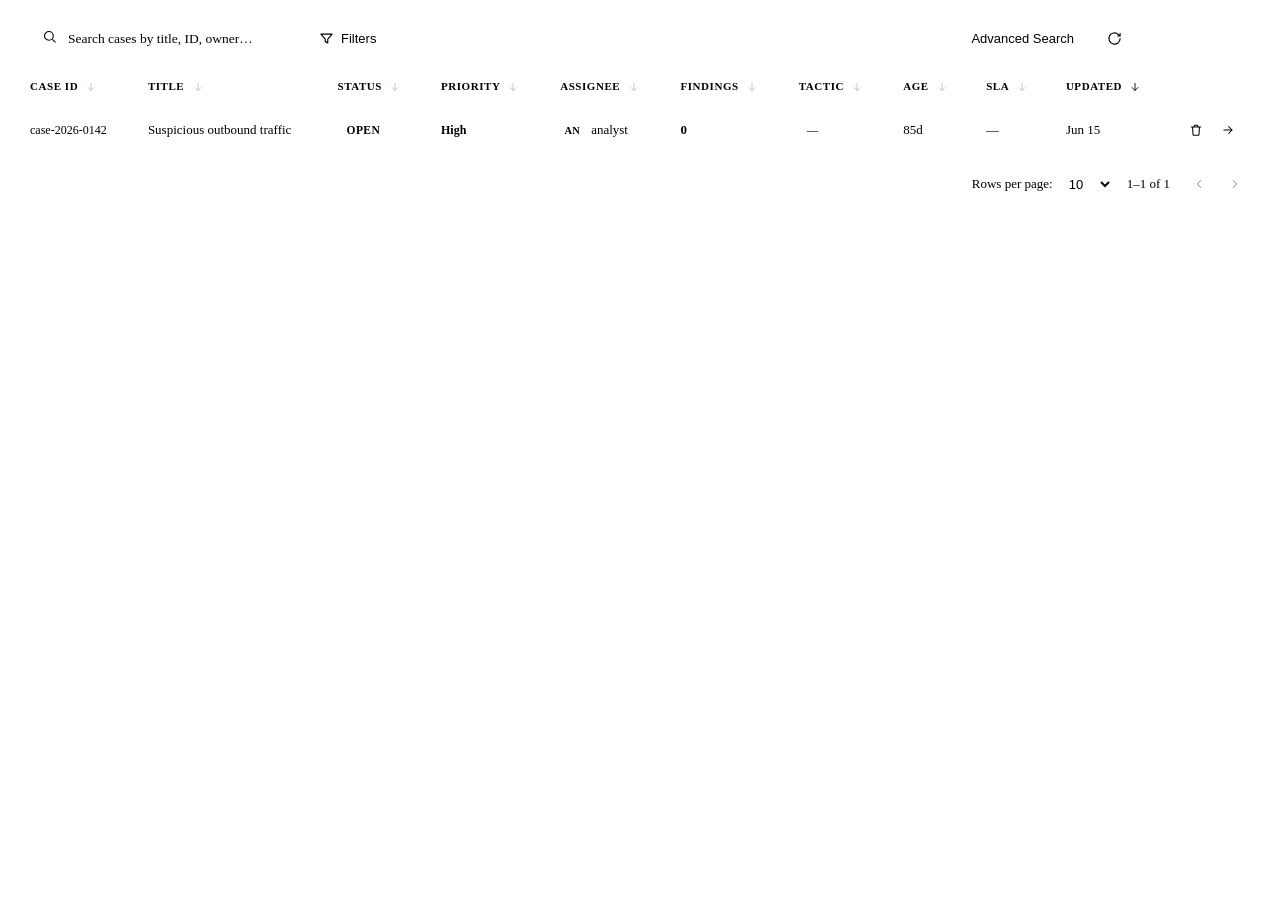
Test: case deletion › deletes a case and refreshes the list
Click the button named "Delete case case-2026-0142".
click(1196, 130)  # box [1182, 116, 1210, 144]
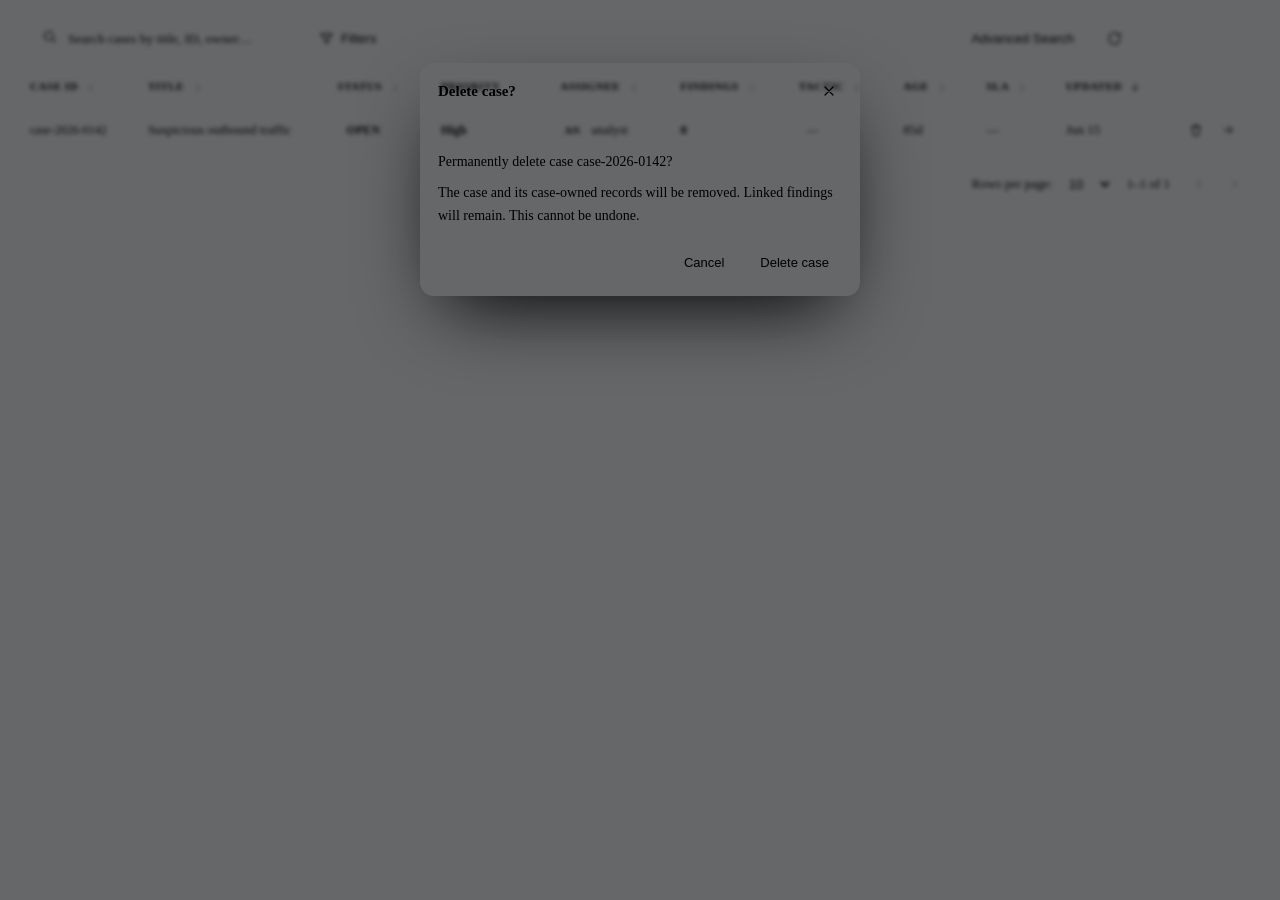
Click the button "Delete case".
click(795, 263)  # box [747, 247, 842, 278]
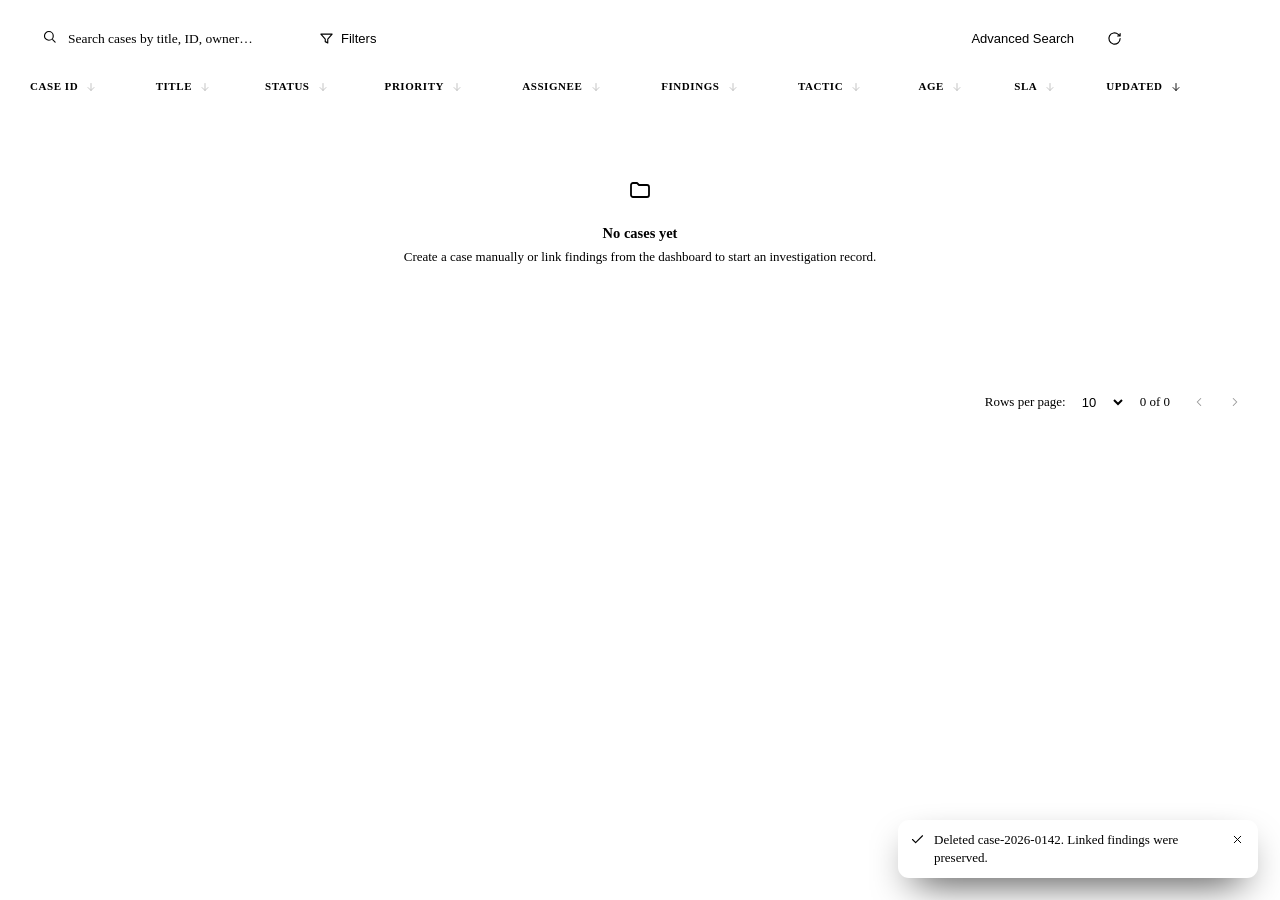
Result: the text "Suspicious outbound traffic" is gone
